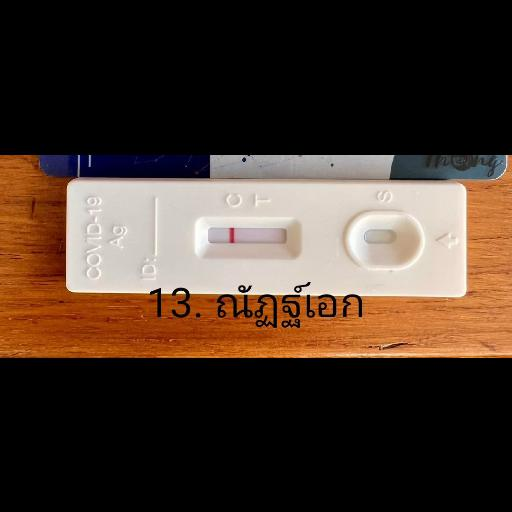Neg: (66, 176, 466, 298)
